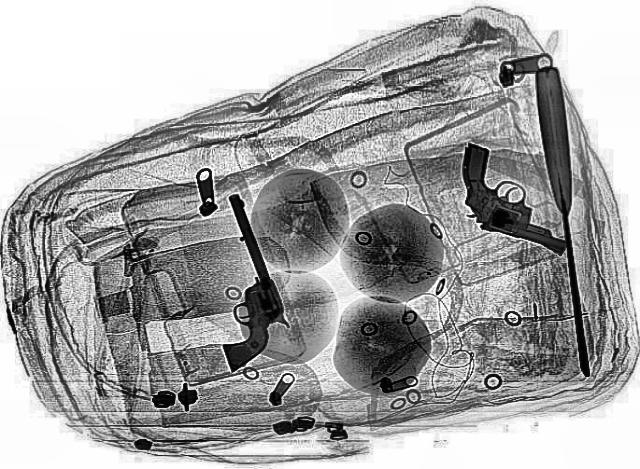Gun: (169, 192, 305, 372), (418, 141, 608, 255)
Knife: (532, 64, 594, 376)
